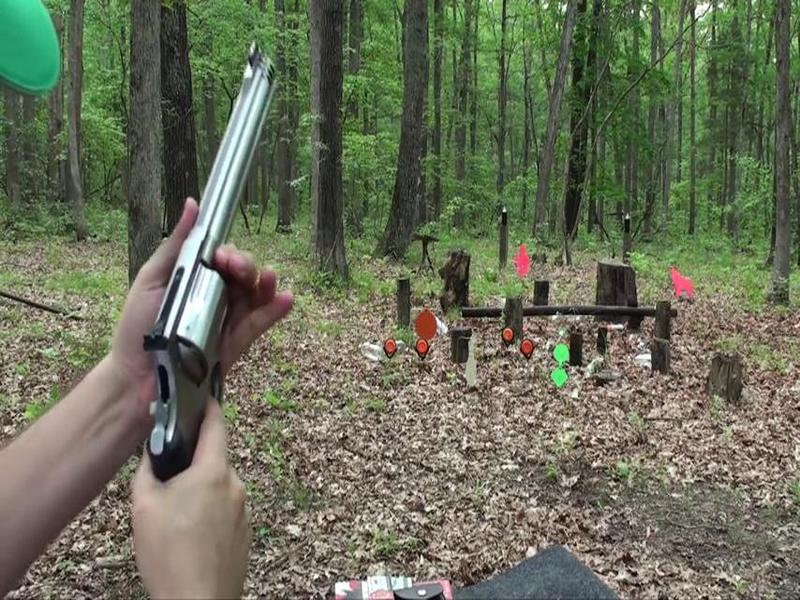Revolver: (101, 51, 311, 518)
